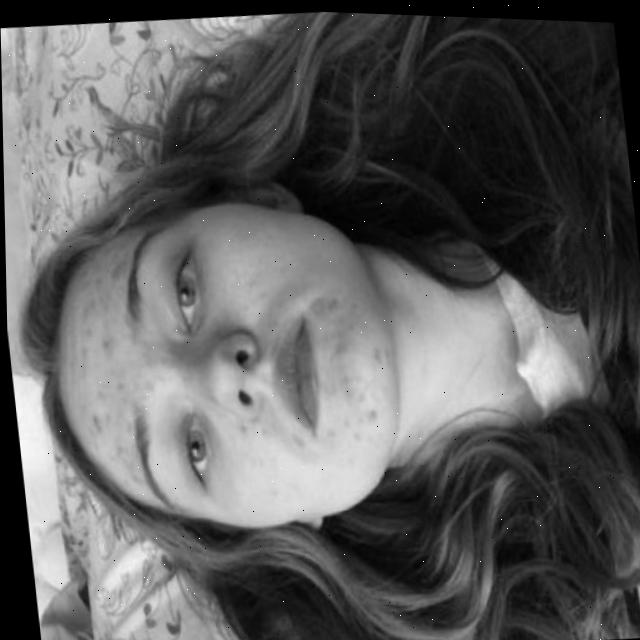Acne: (184, 265, 414, 463), (60, 208, 162, 458)
